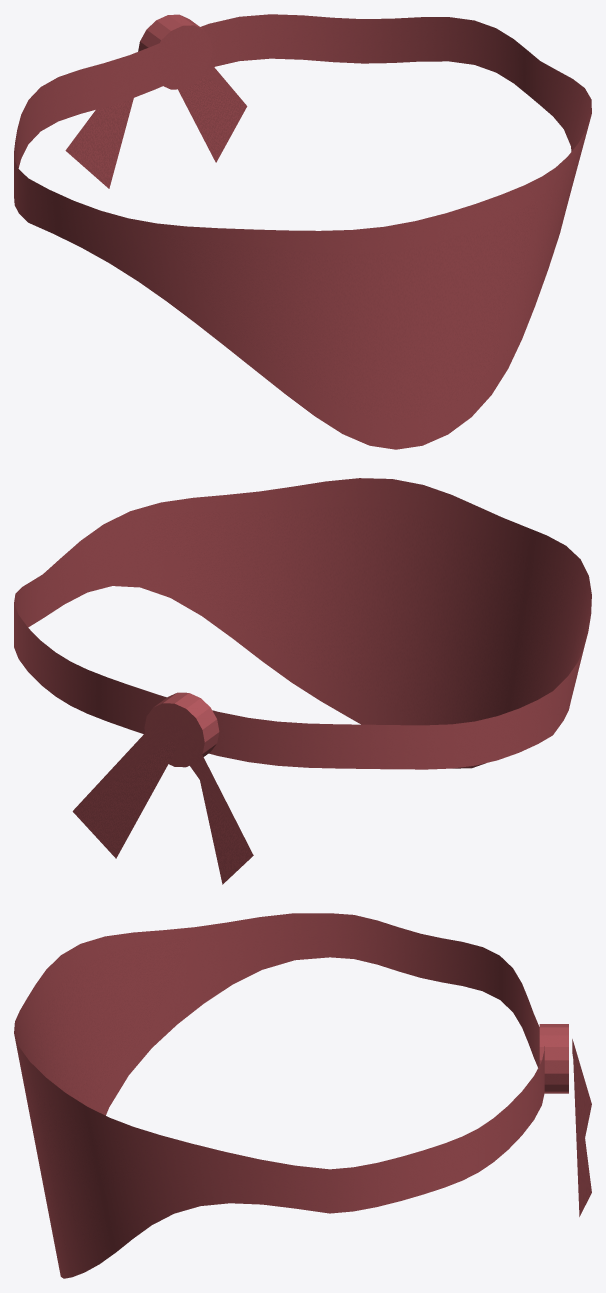
The model's file is reference_bandana_mask.gltf.
The picture shows the model from 3 angles, top to bottom: view 1: azimuth 30°, elevation 25°; view 2: azimuth 150°, elevation 25°; view 3: azimuth 270°, elevation 25°; orthographic projection.
Parts seen in each view (by area): view 1: Bandana Mask; view 2: Bandana Mask; view 3: Bandana Mask.
Part boxes in pixels (bbox=[...]): Bandana Mask: bbox=[14, 14, 591, 449]; Bandana Mask: bbox=[14, 478, 591, 884]; Bandana Mask: bbox=[14, 913, 591, 1278].
Size of the model in its own units: 0.422 by 0.1996 by 0.4147.
Materials: 1 (1 with a texture image).
